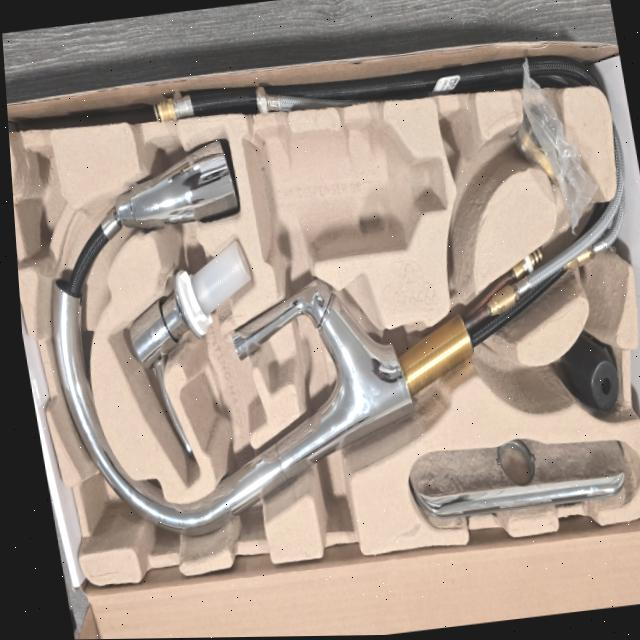1: (52, 140, 625, 536)
2: (128, 239, 250, 455)
3m: (242, 116, 448, 258)
4: (408, 435, 625, 517)
5: (557, 327, 619, 412)
6: (509, 53, 602, 235)
7m: (438, 106, 507, 259)
